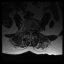CCS_stenosis: (30, 29, 31, 36)
LFS_severe_stenosis: (34, 29, 35, 33)
LLS_stenosis: (31, 29, 33, 34)
RFS_normal: (26, 27, 28, 33)
RLS_stenosis: (28, 29, 30, 34)
